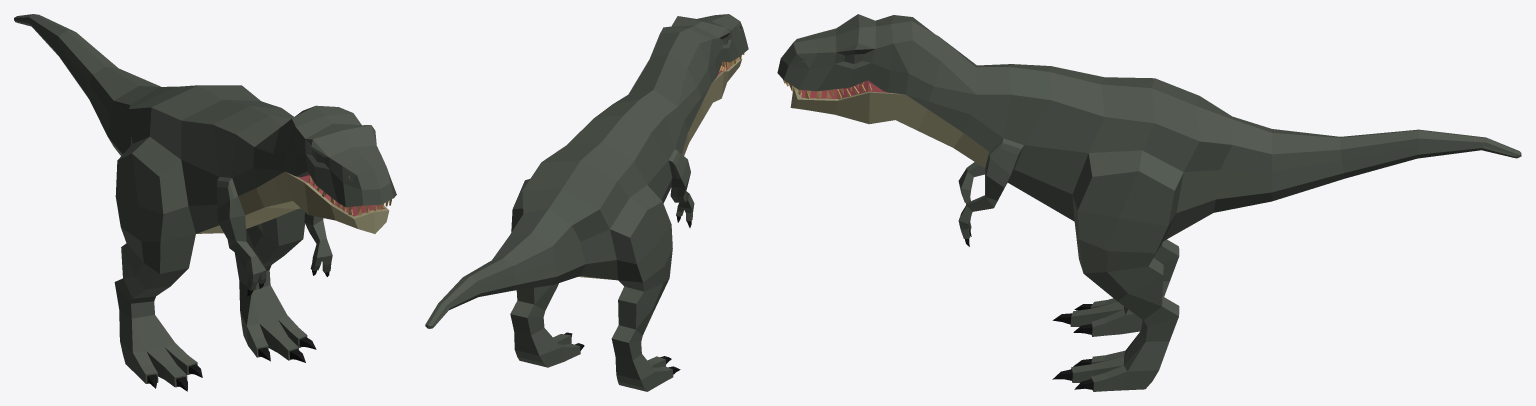
Rendered from Trex.glb.
The picture shows the model from 3 angles, left to right: view 1: azimuth 30°, elevation 25°; view 2: azimuth 150°, elevation 25°; view 3: azimuth 270°, elevation 25°; orthographic projection. The views are drawn at different scales.
Parts seen in each view (by area): view 1: Trex; view 2: Trex; view 3: Trex.
Boxes of the visible parts, box(x1,y1,x2,y2) form: Trex: box(14, 14, 396, 391); Trex: box(425, 14, 748, 391); Trex: box(777, 14, 1521, 391).
Size of the model in its own units: 7.95 by 15.22 by 31.03.
